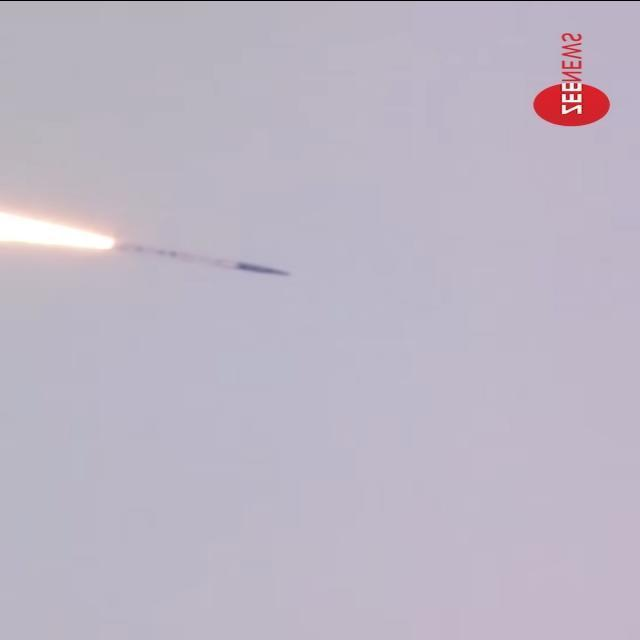Missile: (105, 236, 302, 276)
